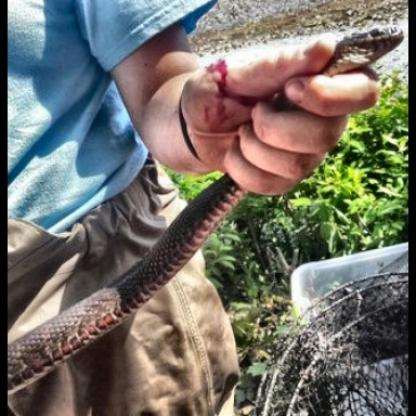Snake: (27, 12, 406, 416)
